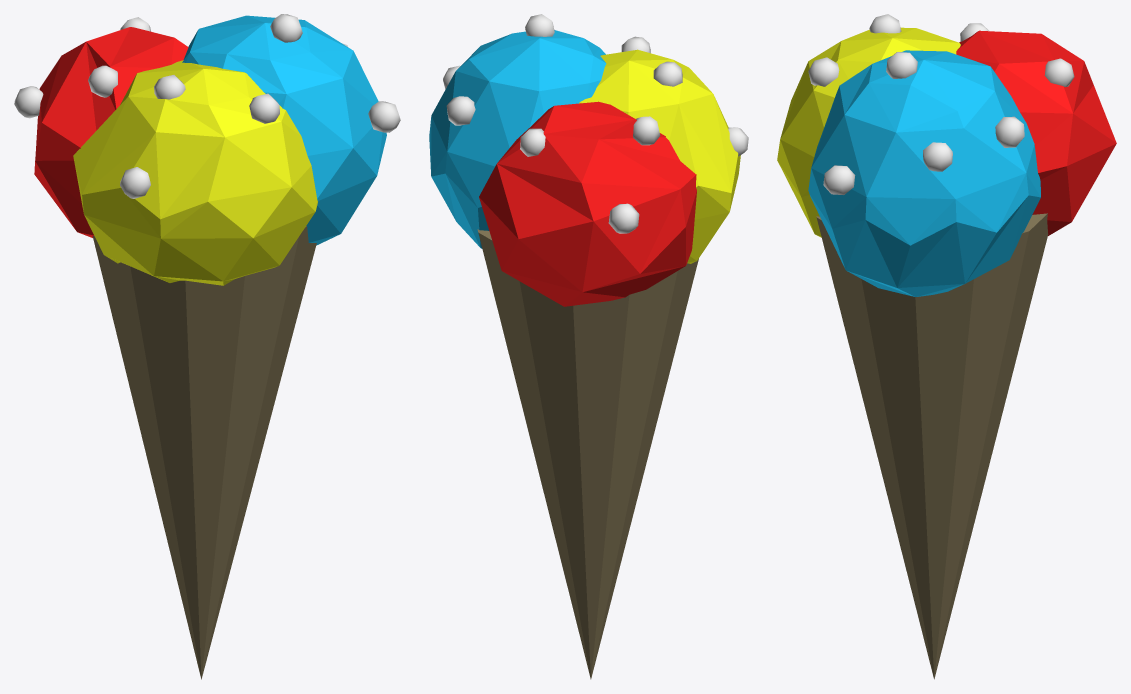
The model's file is 08bace27-9f95-4cd6-8ccf-20872b6ef671.glb.
3 renders of one model, left to right at view 1: azimuth 30°, elevation 25°; view 2: azimuth 150°, elevation 25°; view 3: azimuth 270°, elevation 25°, orthographic. The views are drawn at different scales.
Parts seen in each view (by area): view 1: Cylinder001, Sphere001, Sphere003, Sphere002, Sphere012, Sphere008, Sphere006, Sphere011, Sphere010, Sphere007, Sphere009; view 2: Cylinder001, Sphere002, Sphere003, Sphere001, Sphere007, Sphere004, Sphere006, Sphere009, Sphere005, Sphere011; view 3: Cylinder001, Sphere003, Sphere002, Sphere001, Sphere012, Sphere004, Sphere013, Sphere011, Sphere010, Sphere005.
Boxes of the visible parts, x1=… form: Cylinder001: x1=92, y1=226, x2=316, y2=679; Sphere001: x1=73, y1=60, x2=317, y2=285; Sphere003: x1=182, y1=15, x2=386, y2=245; Sphere002: x1=34, y1=27, x2=188, y2=237; Sphere012: x1=368, y1=101, x2=400, y2=132; Sphere008: x1=120, y1=167, x2=150, y2=198; Sphere006: x1=88, y1=65, x2=117, y2=97; Sphere011: x1=270, y1=14, x2=302, y2=42; Sphere010: x1=249, y1=93, x2=279, y2=123; Sphere007: x1=14, y1=86, x2=43, y2=118; Sphere009: x1=154, y1=75, x2=185, y2=99; Cylinder001: x1=477, y1=229, x2=698, y2=679; Sphere002: x1=479, y1=101, x2=696, y2=306; Sphere003: x1=429, y1=30, x2=606, y2=248; Sphere001: x1=579, y1=49, x2=740, y2=263; Sphere007: x1=608, y1=203, x2=639, y2=233; Sphere004: x1=446, y1=96, x2=475, y2=125; Sphere006: x1=633, y1=116, x2=660, y2=145; Sphere009: x1=653, y1=61, x2=682, y2=86; Sphere005: x1=520, y1=128, x2=545, y2=156; Sphere011: x1=525, y1=14, x2=554, y2=36; Cylinder001: x1=816, y1=213, x2=1048, y2=679; Sphere003: x1=808, y1=50, x2=1040, y2=296; Sphere002: x1=956, y1=30, x2=1116, y2=235; Sphere001: x1=777, y1=27, x2=960, y2=237; Sphere012: x1=823, y1=165, x2=855, y2=194; Sphere004: x1=995, y1=116, x2=1024, y2=147; Sphere013: x1=923, y1=142, x2=952, y2=171; Sphere011: x1=886, y1=52, x2=917, y2=78; Sphere010: x1=808, y1=57, x2=839, y2=86; Sphere005: x1=1044, y1=58, x2=1074, y2=86.
Size of the model in its own units: 363 by 784 by 365.
